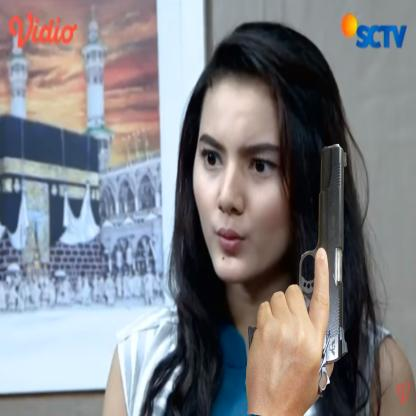handgun: (293, 141, 353, 394)
